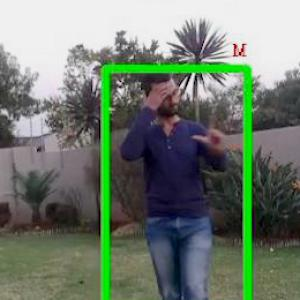land_hand: (192, 102, 228, 152)
